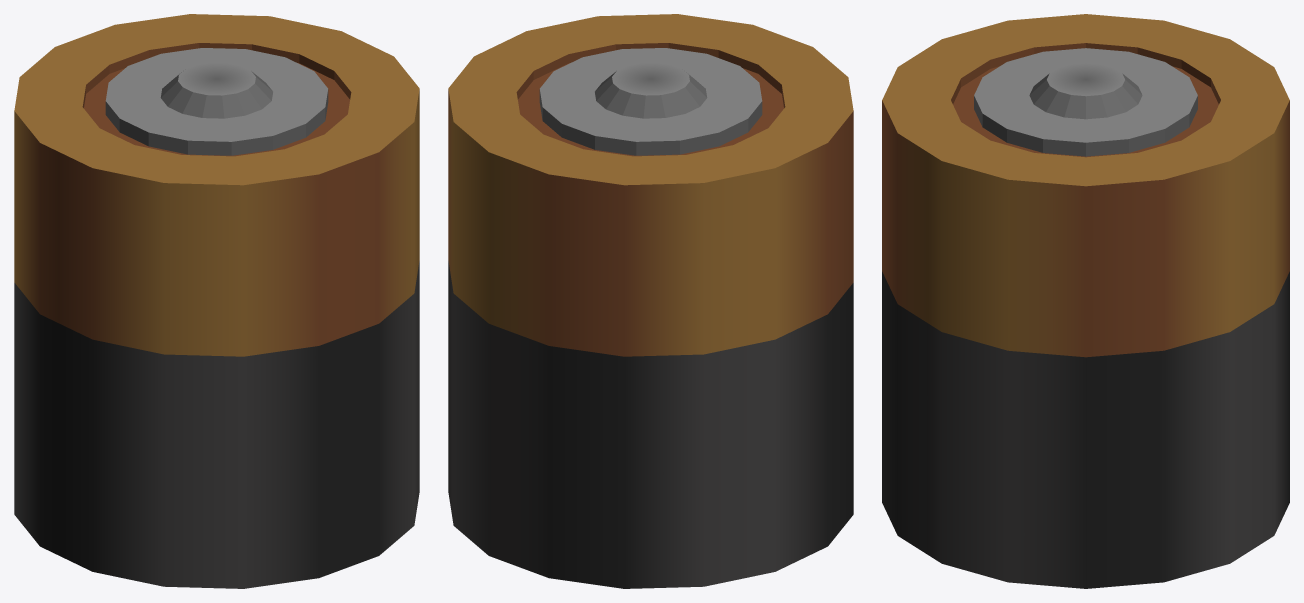
Rendered from human-electronics-battery_v2.glb.
The picture shows the model from 3 angles, left to right: view 1: azimuth 30°, elevation 25°; view 2: azimuth 150°, elevation 25°; view 3: azimuth 270°, elevation 25°; orthographic projection.
Parts seen in each view (by area): view 1: Battery_v2; view 2: Battery_v2; view 3: Battery_v2.
Boxes of the visible parts, box(x1,y1,x2,y2) form: Battery_v2: box(14, 14, 419, 588); Battery_v2: box(448, 14, 853, 588); Battery_v2: box(882, 14, 1289, 588).
Size of the model in its own units: 0.0513 by 0.06 by 0.0513.
